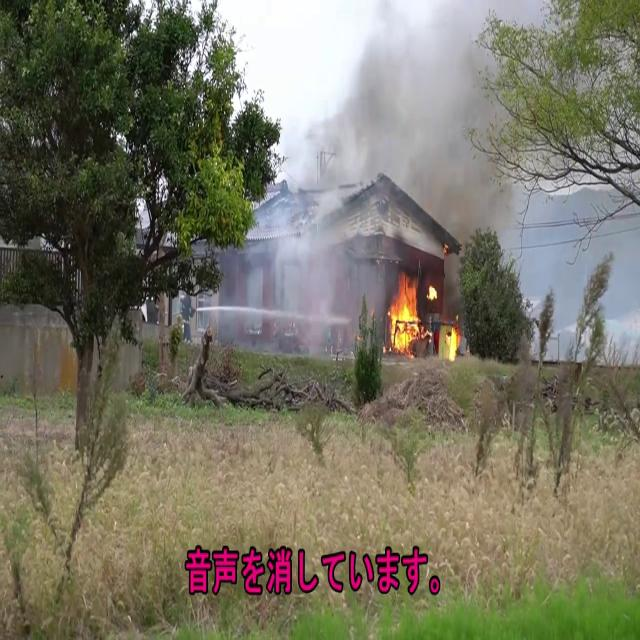Fire: (383, 270, 429, 354), (439, 316, 463, 364)
Smoke: (232, 49, 382, 350)
